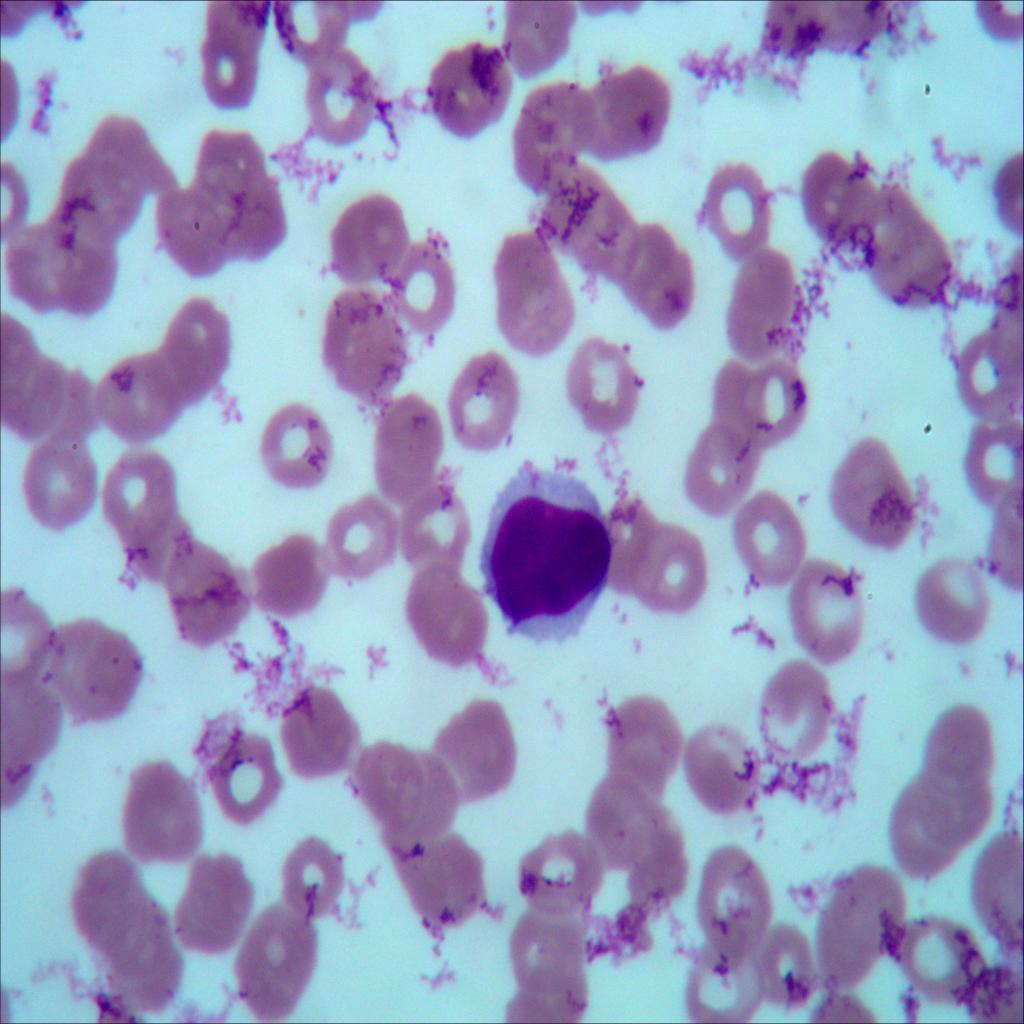Limfoblast: (472, 460, 619, 654)
